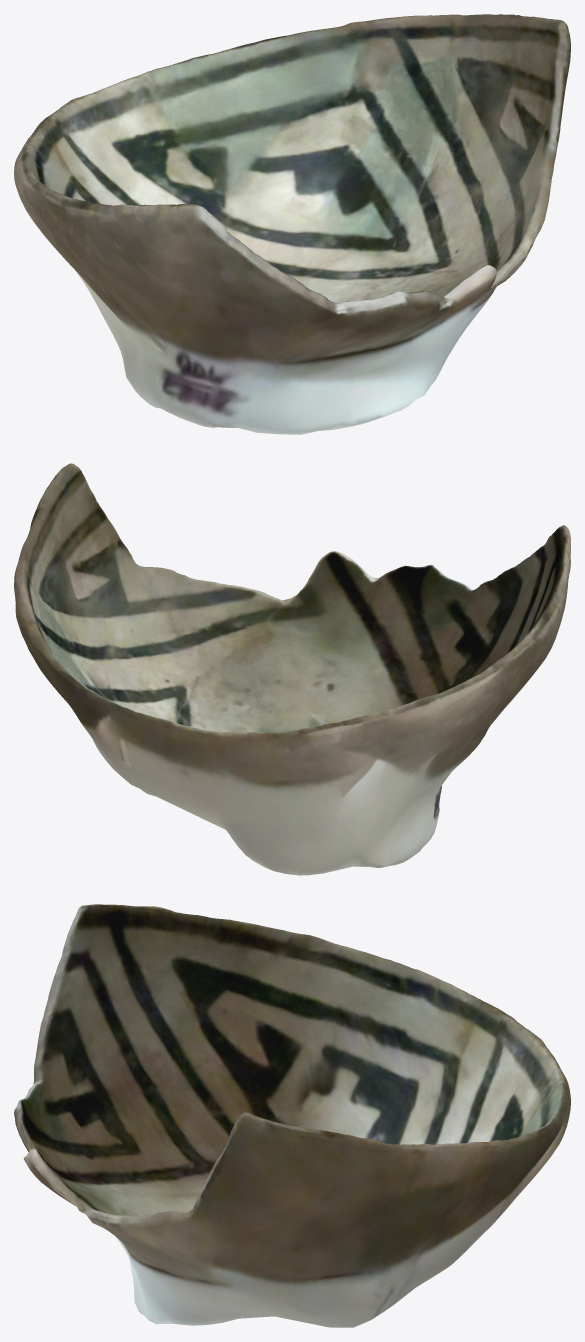
Rendered from new_qlone_plate.glb.
3 renders of one model, top to bottom at view 1: azimuth 30°, elevation 25°; view 2: azimuth 150°, elevation 25°; view 3: azimuth 270°, elevation 25°, orthographic. The views are drawn at different scales.
Visible parts, largest first — view 1: Object_2; view 2: Object_2; view 3: Object_2.
Boxes of the visible parts, x1,y1,x2,y2 form: Object_2: [14, 14, 570, 434]; Object_2: [14, 463, 570, 875]; Object_2: [14, 904, 570, 1327].
Bounding box in the file's own units: 595 × 346 × 549.
1 material, 1 textured.
